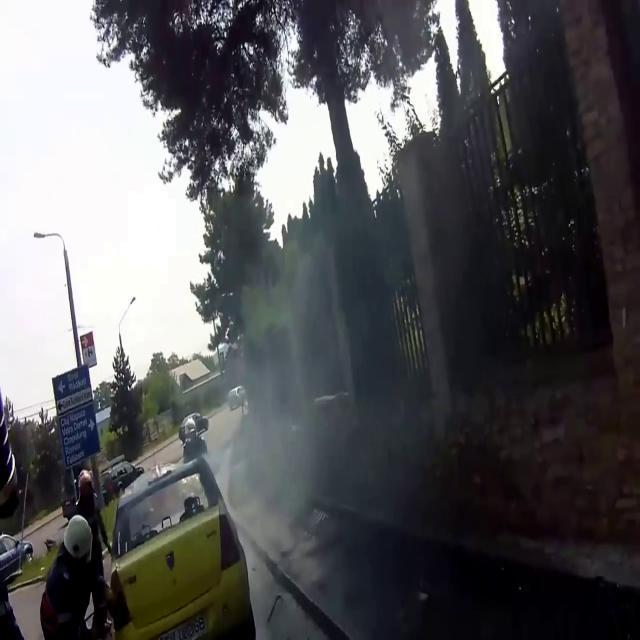Smoke: (206, 128, 476, 596)
